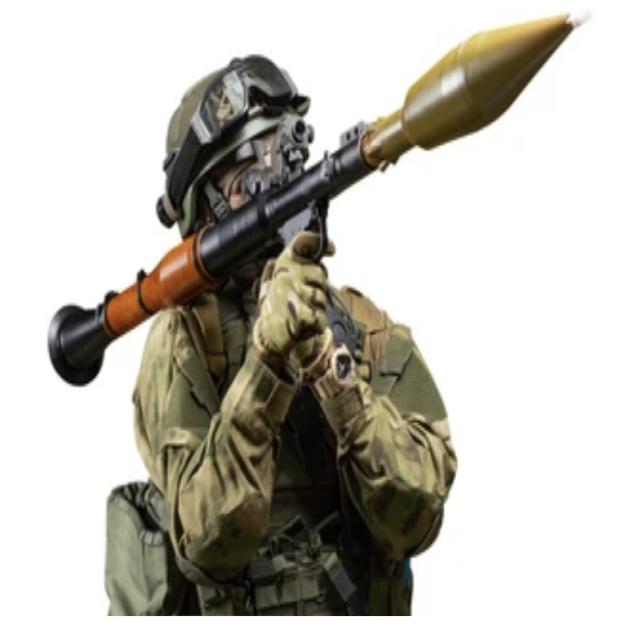bazooka: (19, 1, 616, 450)
